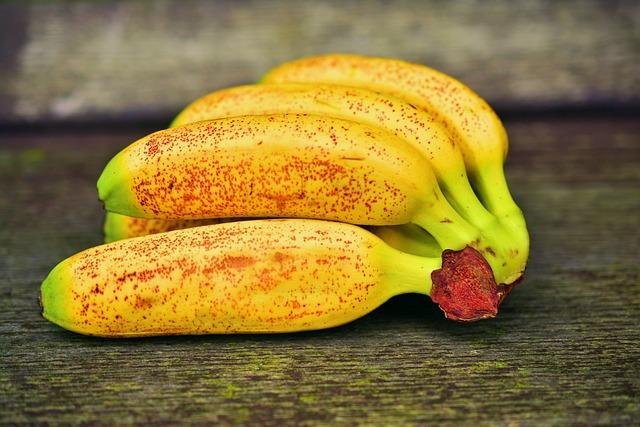banana: (37, 53, 531, 338)
